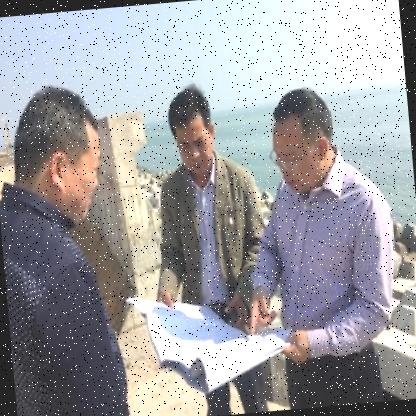sem_capacete: (0, 79, 112, 231), (263, 82, 342, 195), (164, 80, 223, 178)
sem_colete_refletivo: (0, 177, 135, 415), (258, 160, 406, 362), (145, 154, 271, 322)
